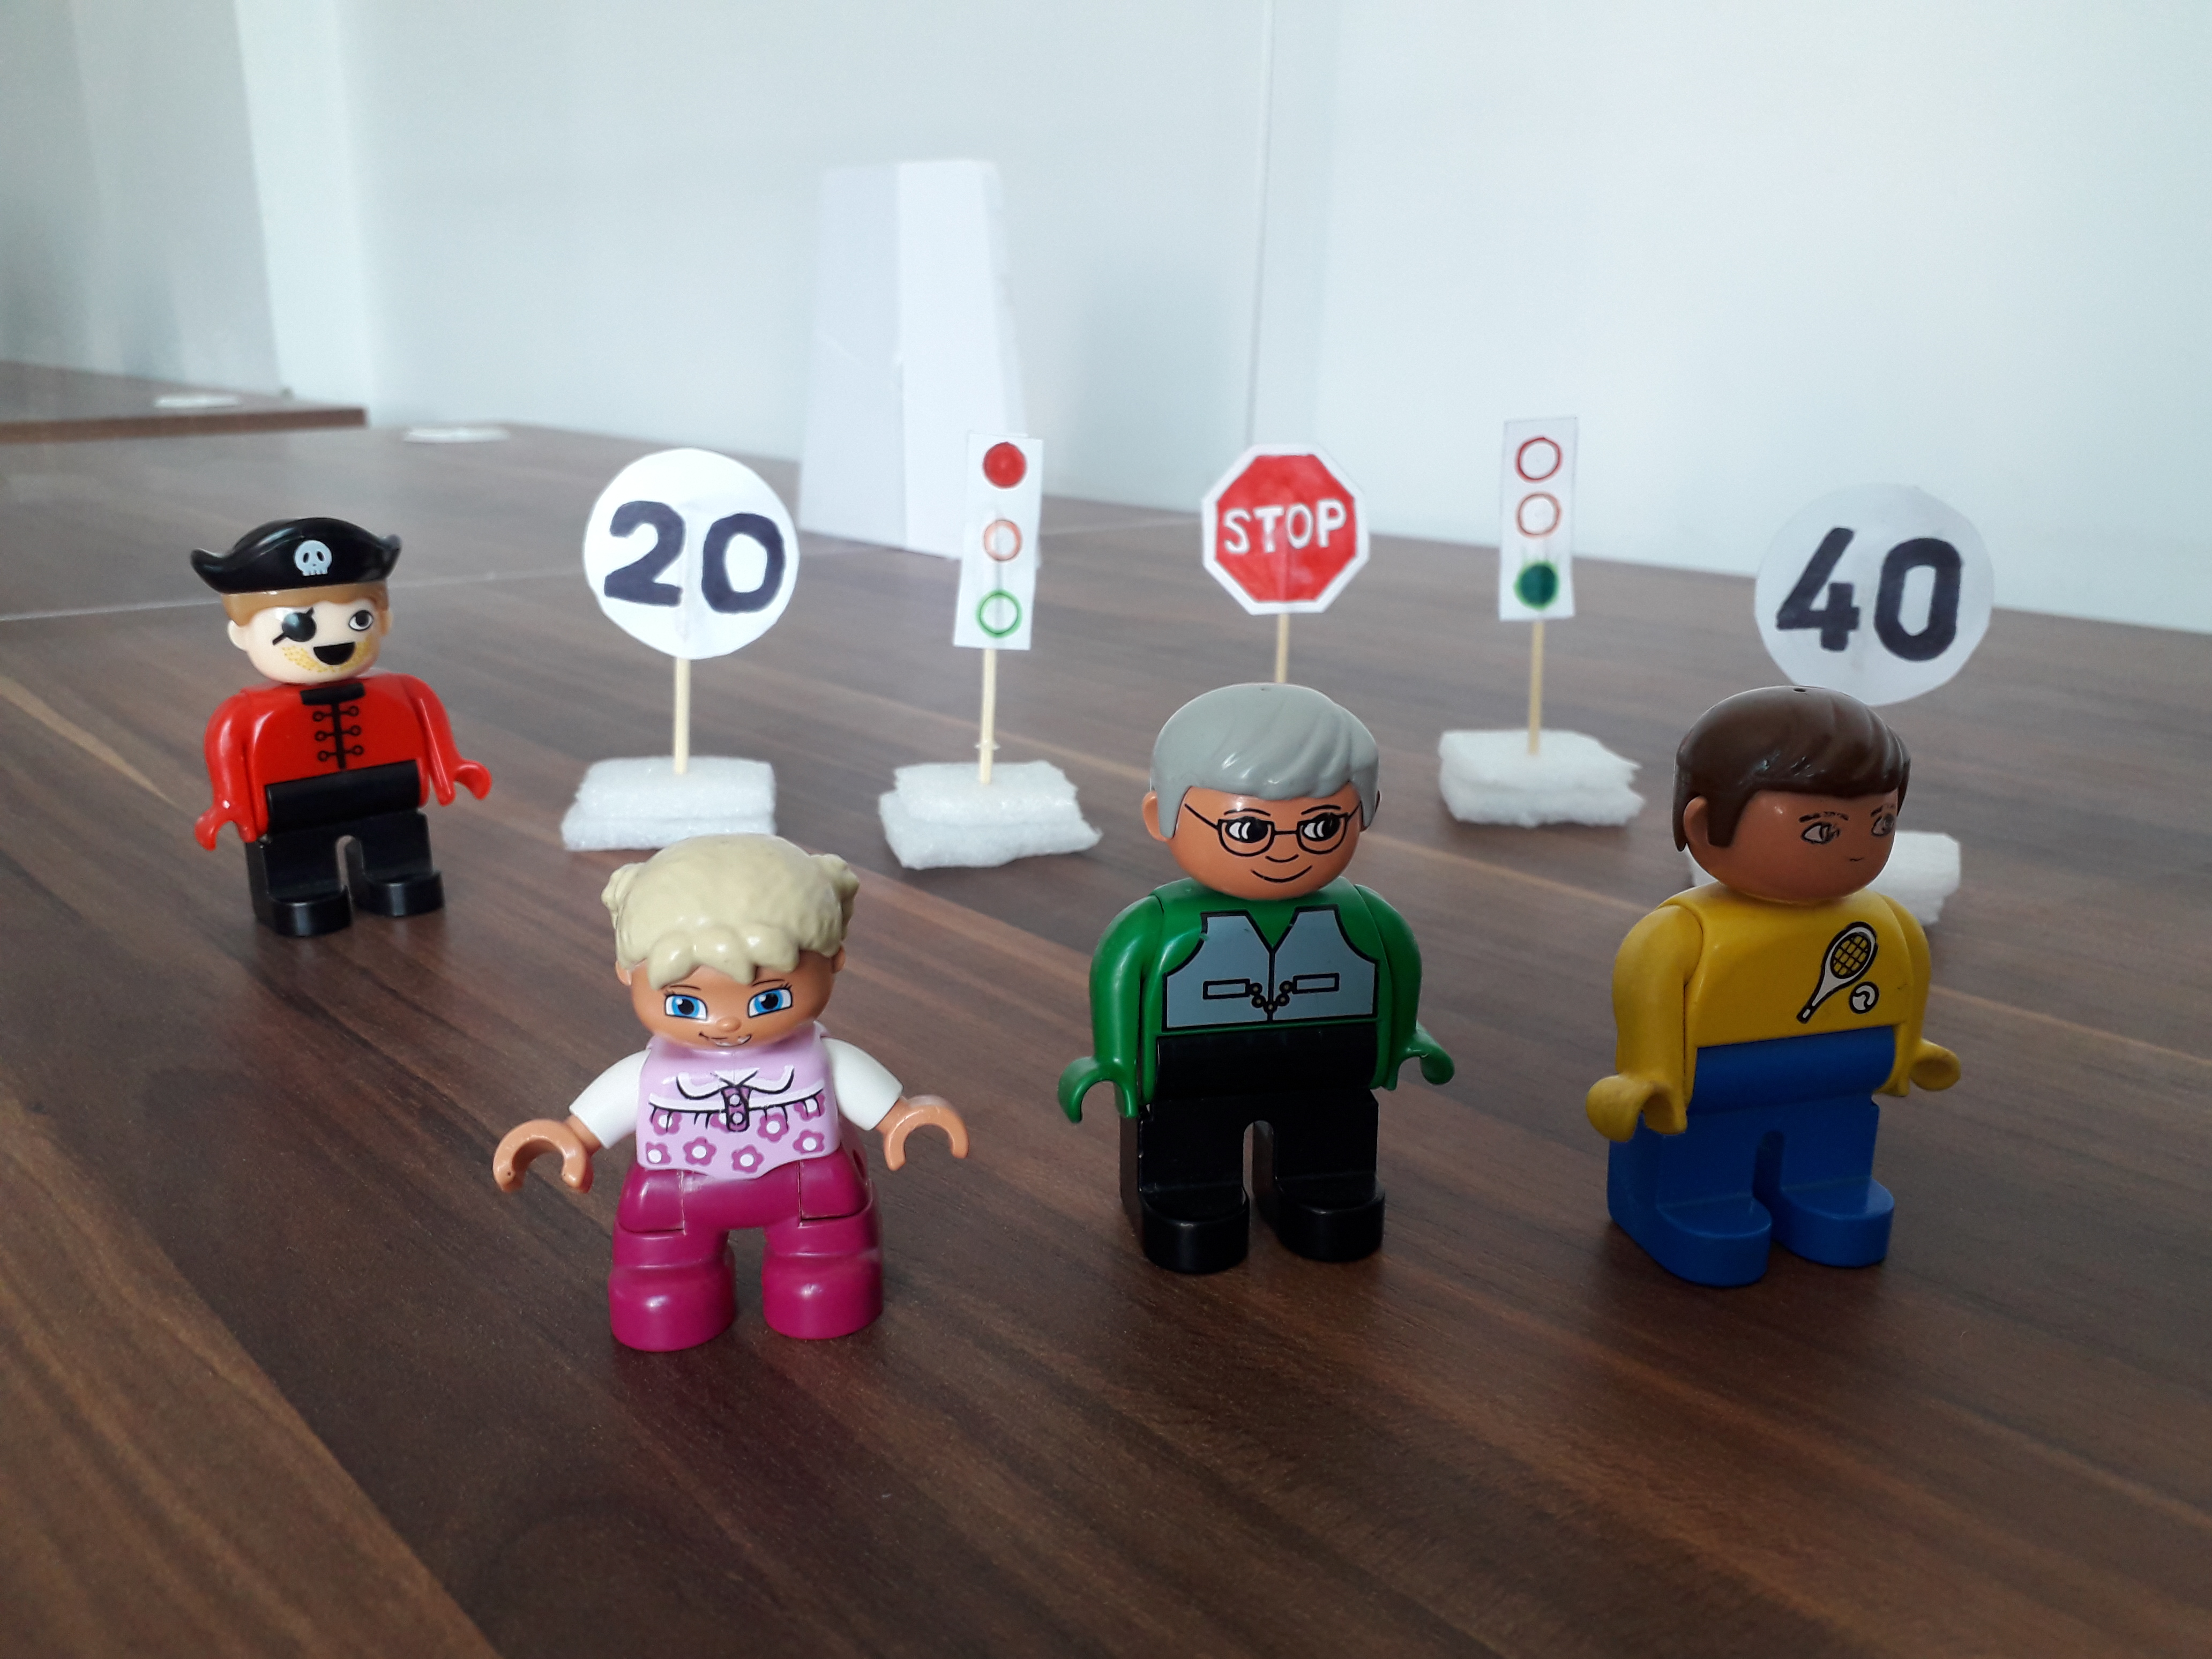20_sign: (587, 449, 803, 658)
40_sign: (1753, 480, 1992, 704)
green_light: (1498, 421, 1576, 625)
person: (1051, 674, 1462, 1281), (497, 839, 980, 1347), (1587, 686, 1964, 1294), (176, 515, 497, 946)
red_light: (949, 431, 1043, 655)
stop_sign: (1207, 451, 1367, 617)
